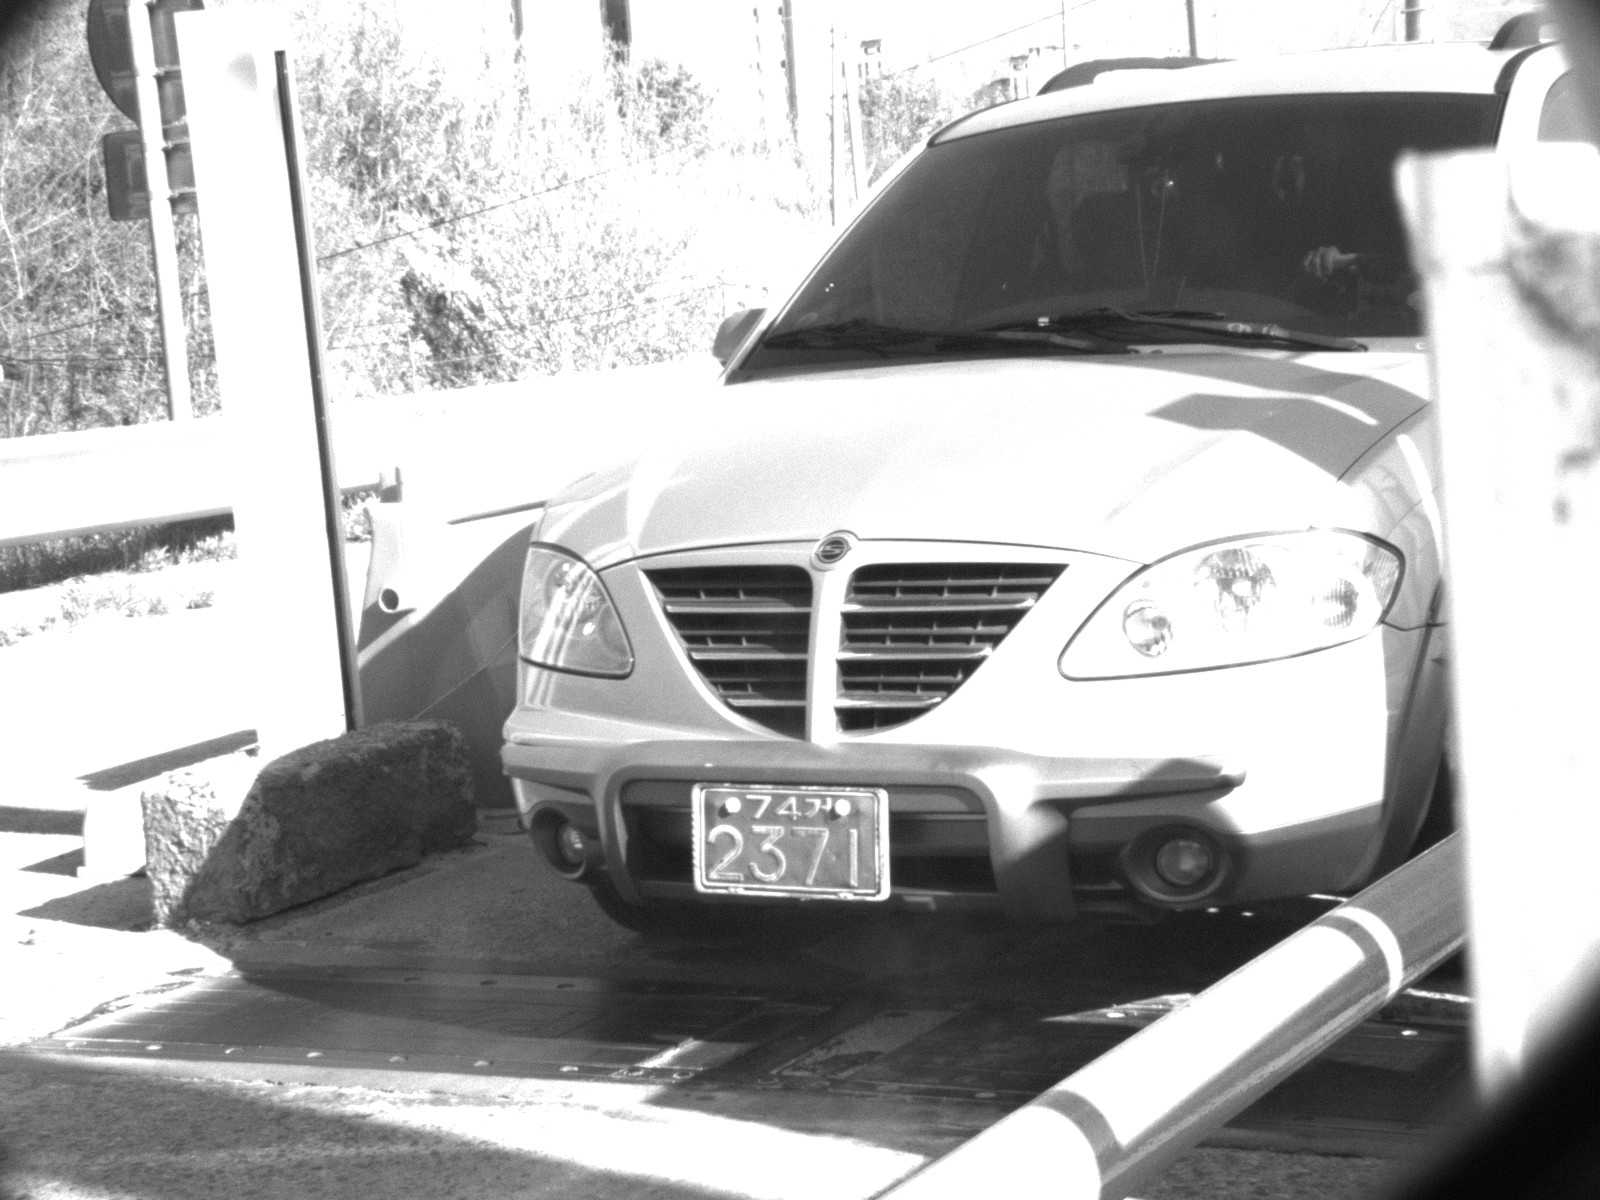car: (498, 12, 1600, 949)
plate: (688, 784, 892, 900)
